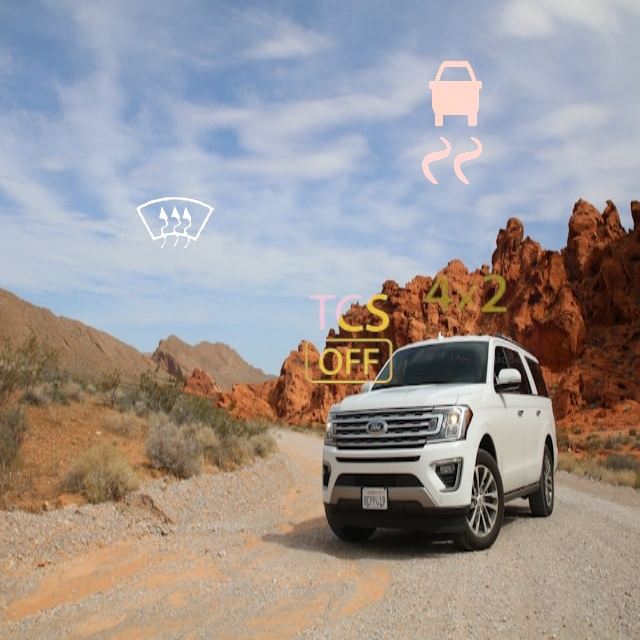symbol: (375, 44, 533, 202), (390, 219, 542, 371), (279, 269, 422, 412), (112, 160, 240, 288)
